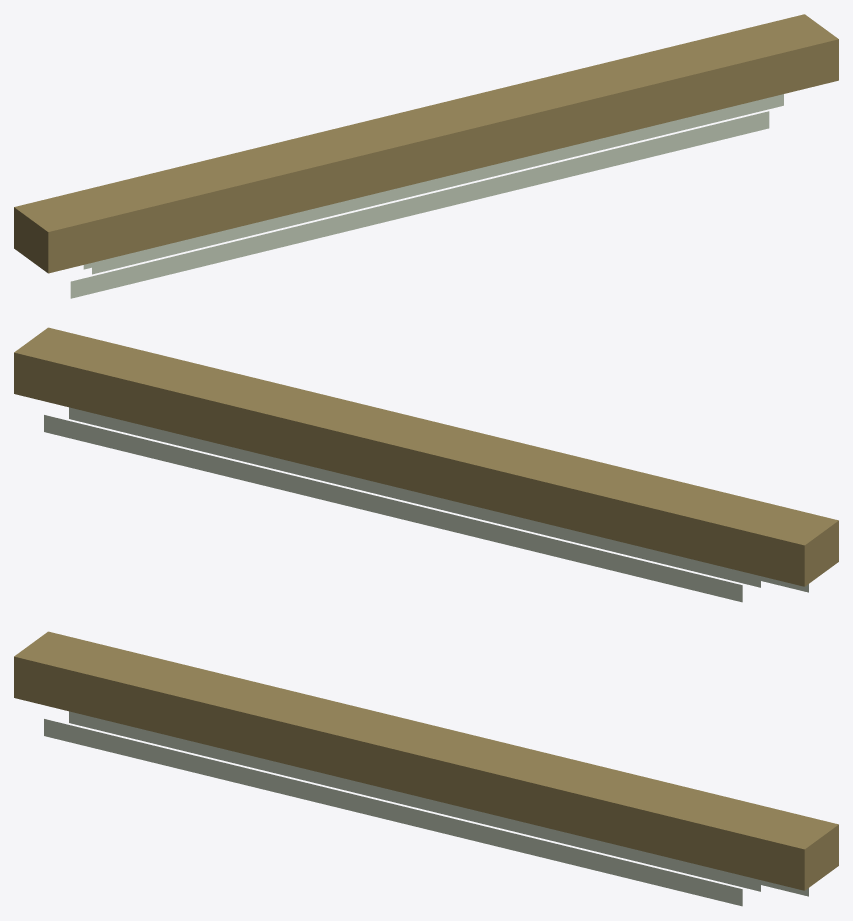
File: crooked_fluorescent_lamp.obj
3 renders of one model, top to bottom at view 1: azimuth 30°, elevation 25°; view 2: azimuth 150°, elevation 25°; view 3: azimuth 330°, elevation 25°, orthographic.
Visible parts, largest first — view 1: crooked_fluorescent_lamp; view 2: crooked_fluorescent_lamp; view 3: crooked_fluorescent_lamp.
Part boxes in pixels (x1,y1,x2,y2): crooked_fluorescent_lamp: [14, 14, 838, 298]; crooked_fluorescent_lamp: [14, 327, 838, 602]; crooked_fluorescent_lamp: [14, 631, 838, 906].
Size of the model in its own units: 2.4 by 0.22 by 0.18.
